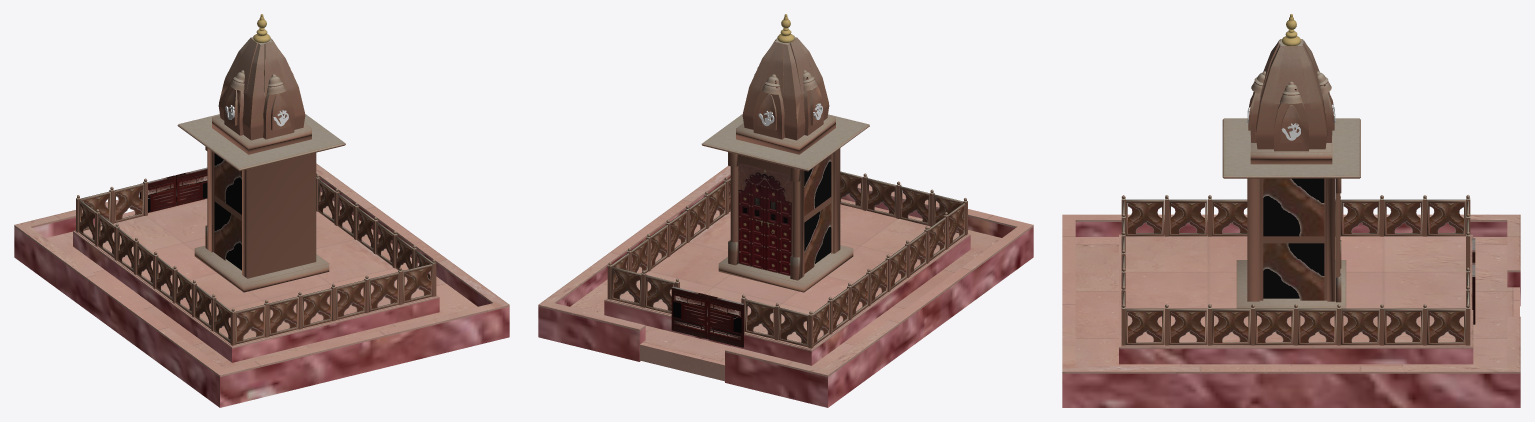
Rendered from mandir.fbx.
3 views of the same model, side by side, from view 1: azimuth 30°, elevation 25°; view 2: azimuth 150°, elevation 25°; view 3: azimuth 270°, elevation 25° (orthographic). The views are drawn at different scales.
Visible parts, largest first — view 1: mandir_wall, mandir, mandirfloor, fence, mandirgate, Plane; view 2: mandir_wall, mandir, mandirfloor, fence, Mandir_door, mandirgate, Plane, mandir_door_top; view 3: mandir_wall, mandirfloor, mandir, fence, Plane.
Boxes of the visible parts, left/top/right/bottom form: mandir_wall: left=14, top=163, right=509, bottom=407; mandir: left=76, top=35, right=436, bottom=345; mandirfloor: left=46, top=192, right=477, bottom=368; fence: left=79, top=160, right=431, bottom=341; mandirgate: left=139, top=167, right=207, bottom=212; Plane: left=214, top=153, right=241, bottom=270; mandir_wall: left=538, top=165, right=1033, bottom=407; mandir: left=607, top=35, right=967, bottom=348; mandirfloor: left=570, top=190, right=1001, bottom=381; fence: left=613, top=155, right=964, bottom=344; Mandir_door: left=738, top=173, right=791, bottom=275; mandirgate: left=671, top=286, right=744, bottom=347; Plane: left=804, top=161, right=831, bottom=263; mandir_door_top: left=738, top=163, right=791, bottom=202; mandir_wall: left=1062, top=214, right=1520, bottom=407; mandirfloor: left=1075, top=234, right=1519, bottom=366; mandir: left=1121, top=39, right=1470, bottom=345; fence: left=1128, top=178, right=1463, bottom=342; Plane: left=1263, top=178, right=1324, bottom=298.
Size of the model in its own units: 561 by 524 by 691.
